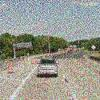cars: (38, 58, 60, 79)
